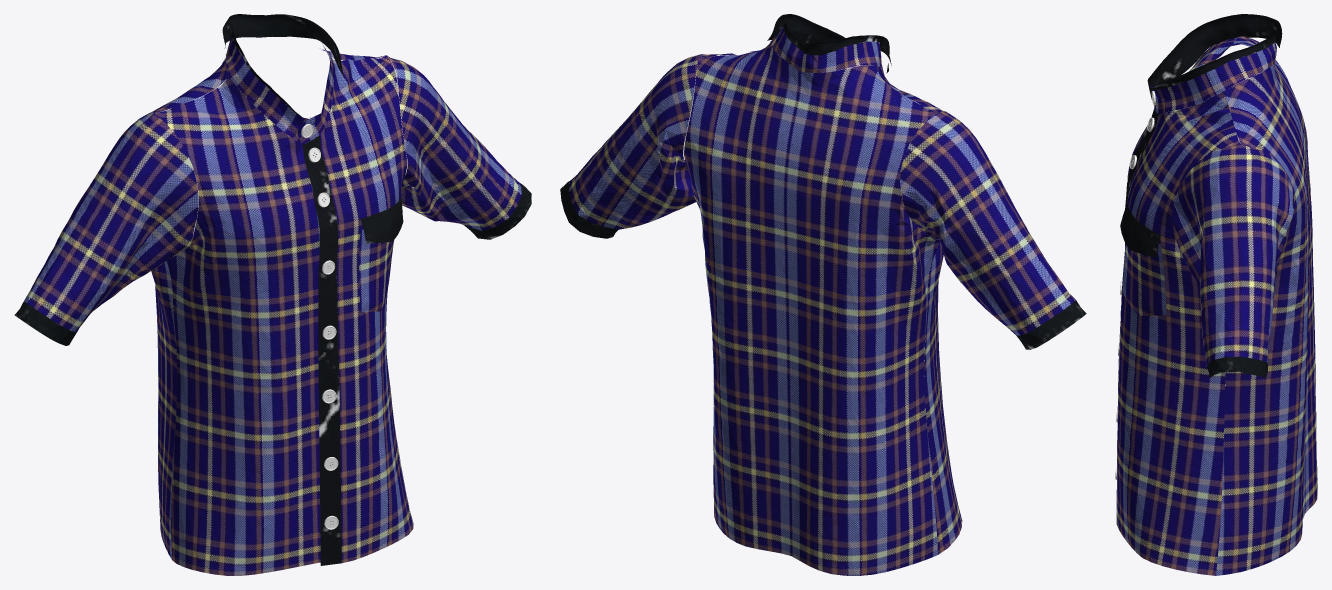
File: halfshirt.glb
3 renders of one model, left to right at view 1: azimuth 30°, elevation 25°; view 2: azimuth 150°, elevation 25°; view 3: azimuth 270°, elevation 25°, orthographic. The views are drawn at different scales.
Bounding box in the file's own units: 36.4 × 34.3 × 12.76.
4 materials, 2 textured.
